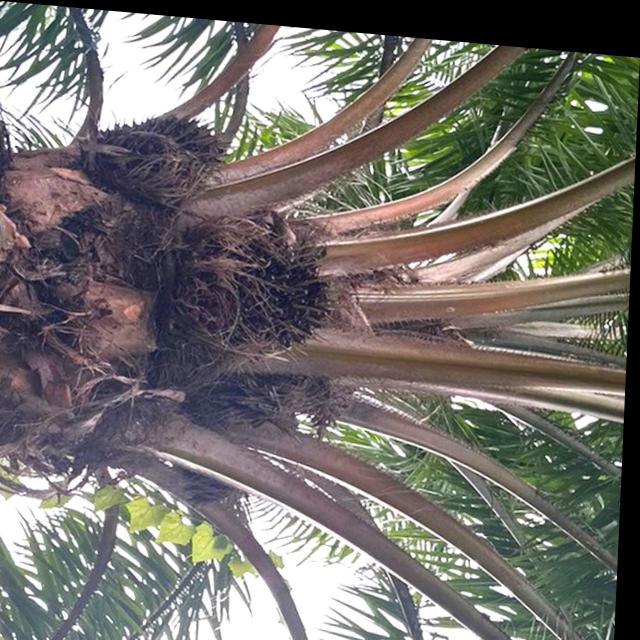ripe: (181, 203, 360, 367)
